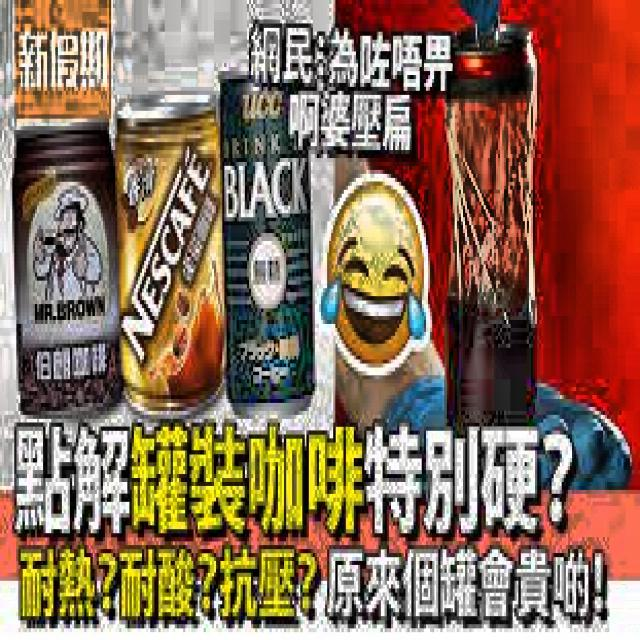can: (110, 87, 228, 421), (217, 57, 322, 423), (10, 113, 127, 426)
